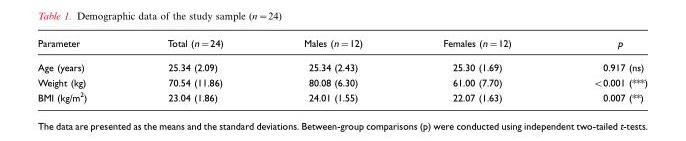table: (36, 36, 647, 102)
table column: (402, 36, 551, 102), (262, 36, 402, 102), (126, 36, 262, 102), (551, 36, 647, 102), (36, 36, 126, 102)
table column header: (36, 36, 647, 55)
table row: (36, 36, 647, 55), (36, 55, 647, 74), (36, 74, 647, 89), (36, 89, 647, 102)
